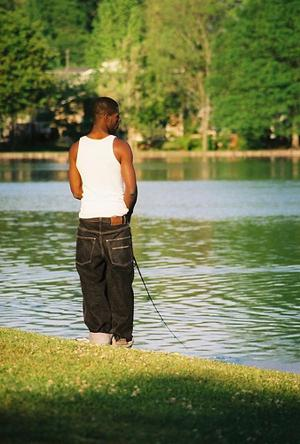person: (68, 97, 138, 343)
